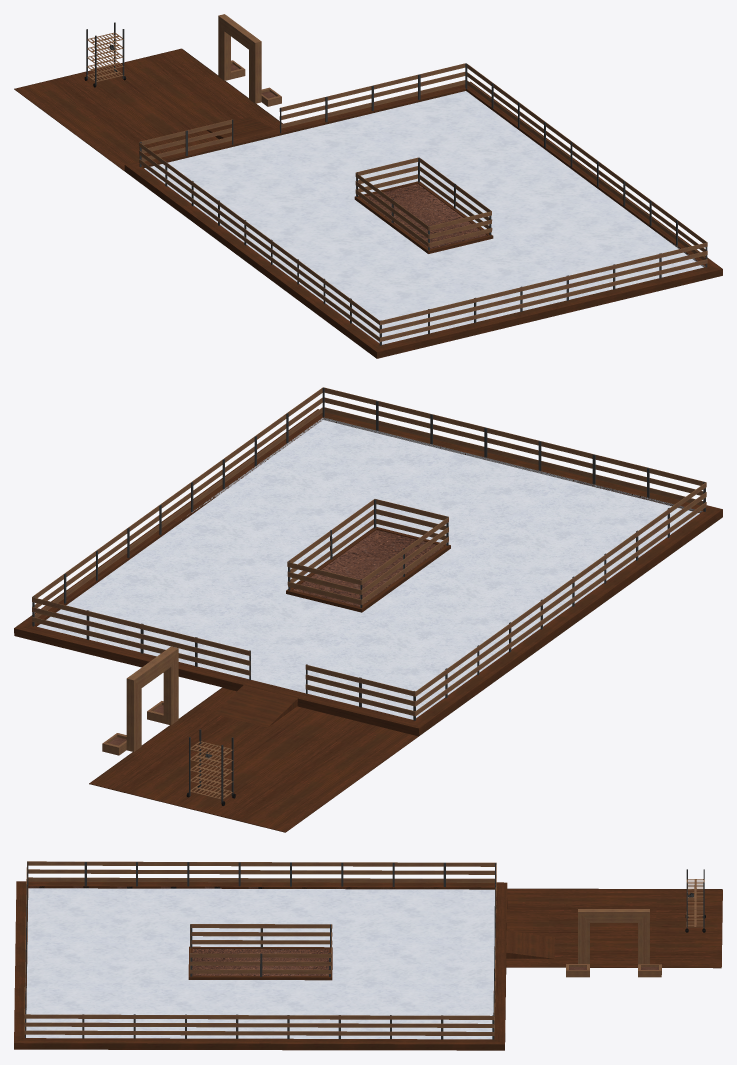
Rendered from Patinoire.fbx.
3 views of the same model, one above another, from view 1: azimuth 30°, elevation 25°; view 2: azimuth 150°, elevation 25°; view 3: azimuth 270°, elevation 25° (orthographic). The views are drawn at different scales.
Visible parts, largest first — view 1: SolPatinoire.001, BarrierePatinoireCetrale, EntreePatinoire, BarrierePatinoire.001, BarrierePatinoire.008, PortantsPatins, BarrierePatinoire.009, BarrierePatinoire.010, BarrierePatinoire.002, BarrierePatinoire, BarrierePatinoire.006, BarrierePatinoire.014 (+7 smaller); view 2: SolPatinoire.001, BarrierePatinoireCetrale, EntreePatinoire, BarrierePatinoire, BarrierePatinoire.002, BarrierePatinoire.009, BarrierePatinoire.008, BarrierePatinoire.010, PortantsPatins, BarrierePatinoire.001, BarrierePatinoire.014, BarrierePatinoire.013 (+8 smaller); view 3: SolPatinoire.001, BarrierePatinoireCetrale, EntreePatinoire, BarrierePatinoire.013, BarrierePatinoire.004, BarrierePatinoire.014, BarrierePatinoire.003, BarrierePatinoire.005, BarrierePatinoire.012, BarrierePatinoire.015, BarrierePatinoire.006, PortantsPatins (+2 smaller).
Boxes of the visible parts, x1=… form: SolPatinoire.001: x1=14, y1=48, x2=722, y2=358; BarrierePatinoireCetrale: x1=355, y1=157, x2=492, y2=250; EntreePatinoire: x1=218, y1=14, x2=281, y2=106; BarrierePatinoire.001: x1=279, y1=85, x2=373, y2=133; BarrierePatinoire.008: x1=614, y1=242, x2=707, y2=289; PortantsPatins: x1=84, y1=22, x2=126, y2=87; BarrierePatinoire.009: x1=521, y1=264, x2=614, y2=311; BarrierePatinoire.010: x1=429, y1=287, x2=521, y2=333; BarrierePatinoire.002: x1=373, y1=63, x2=466, y2=110; BarrierePatinoire: x1=139, y1=119, x2=233, y2=166; BarrierePatinoire.006: x1=623, y1=181, x2=677, y2=244; BarrierePatinoire.014: x1=139, y1=142, x2=192, y2=205; SolPatinoire.001: x1=14, y1=409, x2=722, y2=832; BarrierePatinoireCetrale: x1=287, y1=499, x2=448, y2=607; EntreePatinoire: x1=102, y1=646, x2=178, y2=755; BarrierePatinoire: x1=305, y1=664, x2=415, y2=720; BarrierePatinoire.002: x1=32, y1=596, x2=141, y2=653; BarrierePatinoire.009: x1=431, y1=414, x2=540, y2=470; BarrierePatinoire.008: x1=323, y1=387, x2=431, y2=443; BarrierePatinoire.010: x1=540, y1=441, x2=648, y2=497; PortantsPatins: x1=186, y1=729, x2=235, y2=805; BarrierePatinoire.001: x1=141, y1=624, x2=250, y2=680; BarrierePatinoire.014: x1=414, y1=646, x2=479, y2=720; BarrierePatinoire.013: x1=478, y1=600, x2=542, y2=674; SolPatinoire.001: x1=14, y1=881, x2=722, y2=1050; BarrierePatinoireCetrale: x1=189, y1=924, x2=332, y2=976; EntreePatinoire: x1=566, y1=909, x2=661, y2=977; BarrierePatinoire.013: x1=291, y1=862, x2=393, y2=886; BarrierePatinoire.004: x1=288, y1=1015, x2=390, y2=1039; BarrierePatinoire.014: x1=393, y1=862, x2=495, y2=886; BarrierePatinoire.003: x1=390, y1=1015, x2=494, y2=1039; BarrierePatinoire.005: x1=186, y1=1014, x2=288, y2=1038; BarrierePatinoire.012: x1=188, y1=862, x2=290, y2=886; BarrierePatinoire.015: x1=85, y1=861, x2=188, y2=886; BarrierePatinoire.006: x1=83, y1=1014, x2=185, y2=1038; PortantsPatins: x1=685, y1=869, x2=705, y2=932.
Size of the model in its own units: 1613 by 270 by 2960.
